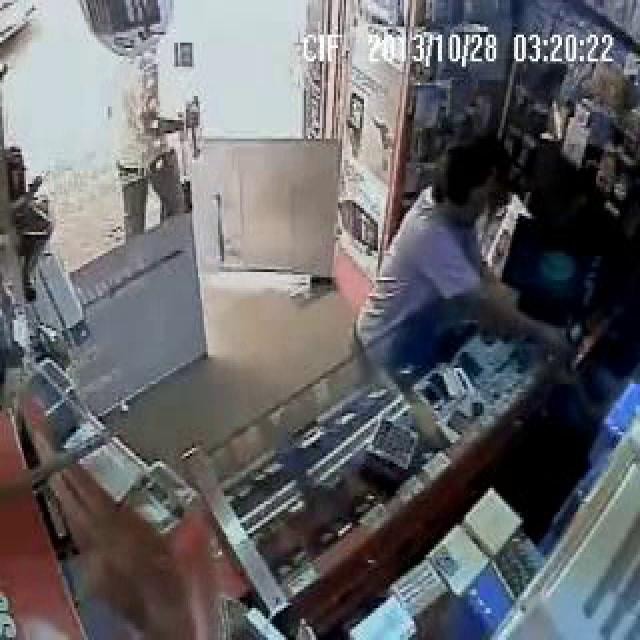shoplifting: (329, 12, 620, 445), (104, 7, 317, 379)
